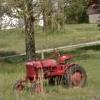Tractor: (15, 40, 91, 99)
